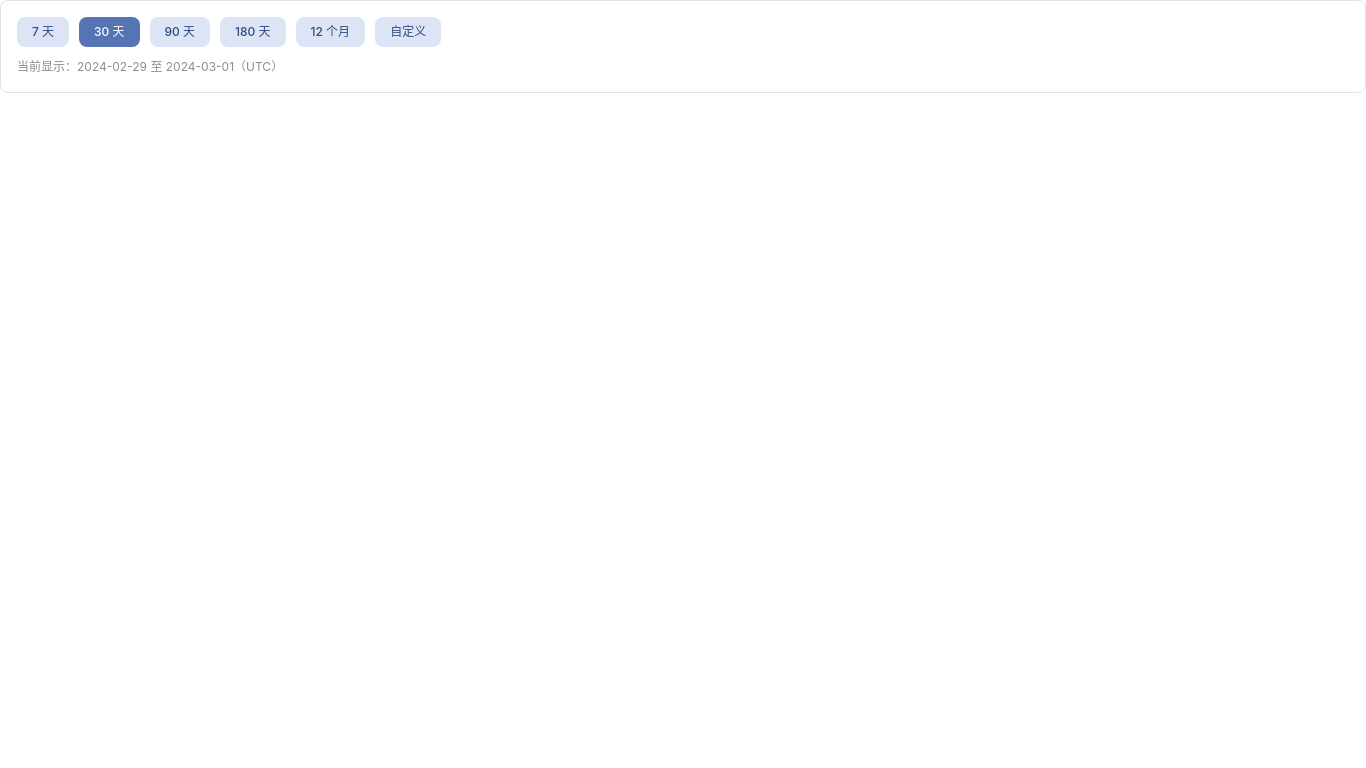
it: developer calendar range picker › applies twelve calendar months including a leap-day start
Click the button "自定义" at {"x": 408, "y": 32}, box [375,17,441,47]
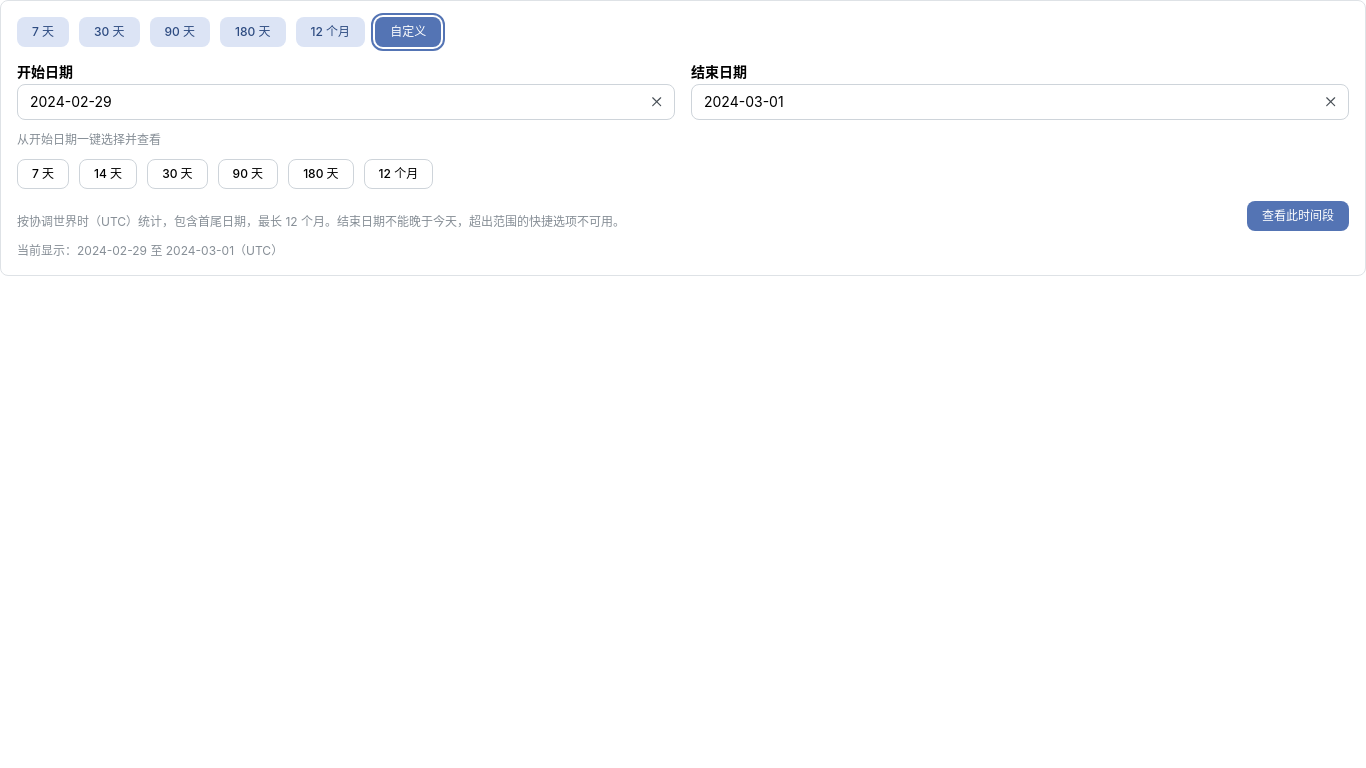
Click the button "12 个月" below "从开始日期一键选择并查看" at {"x": 398, "y": 174}, box [364,159,433,189]
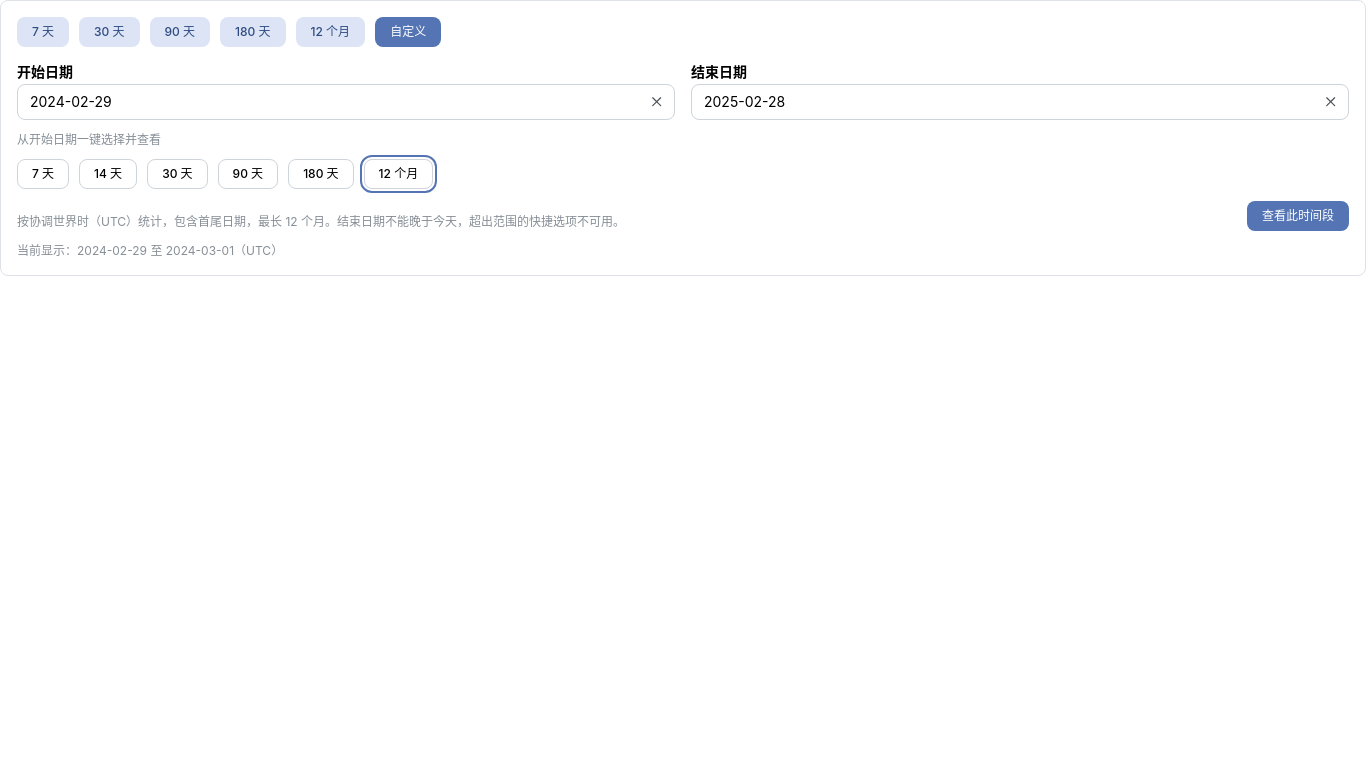
Click the button named "结束日期" at {"x": 745, "y": 101}, box [691,84,1349,120]
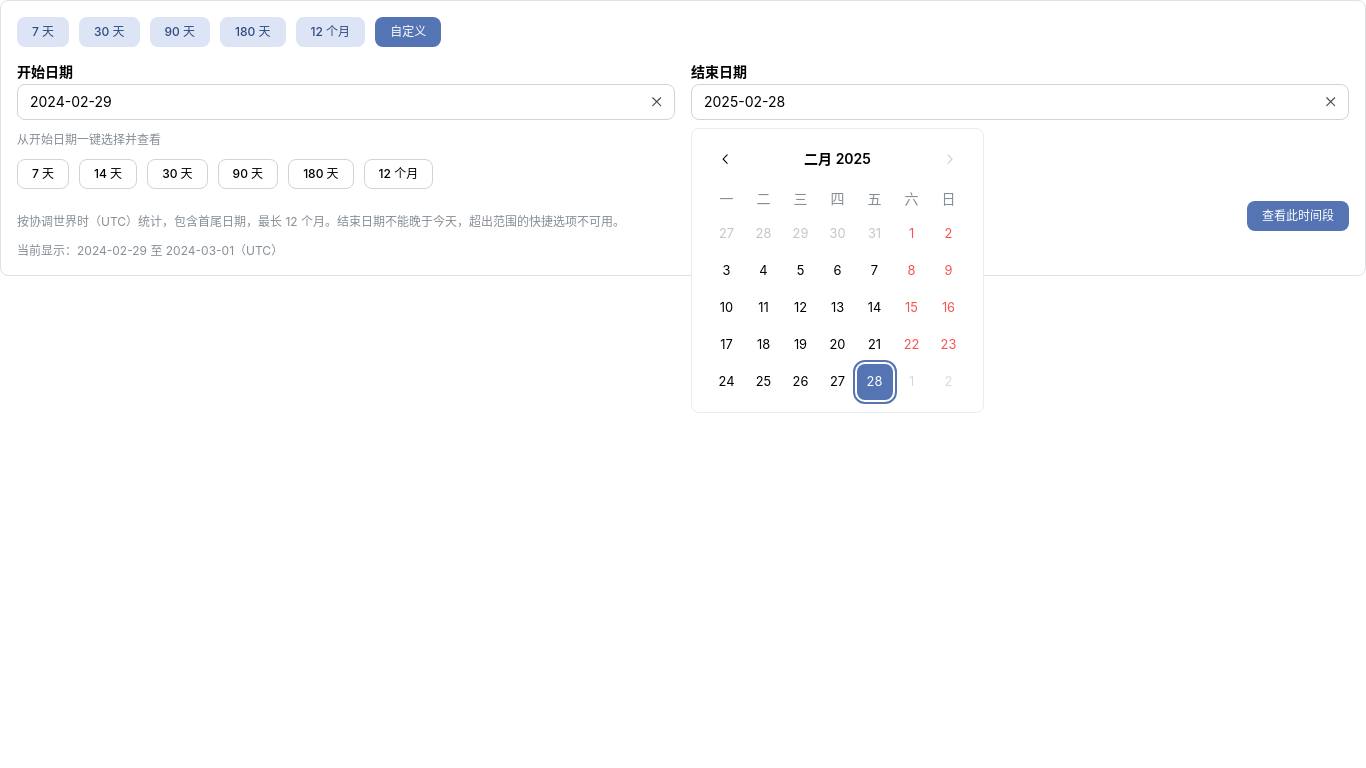
expect the button named "2025-02-28" is enabled: met, box [856,364,892,400]
expect the button named "2025-03-01" is disabled: met, box [894,364,930,400]
